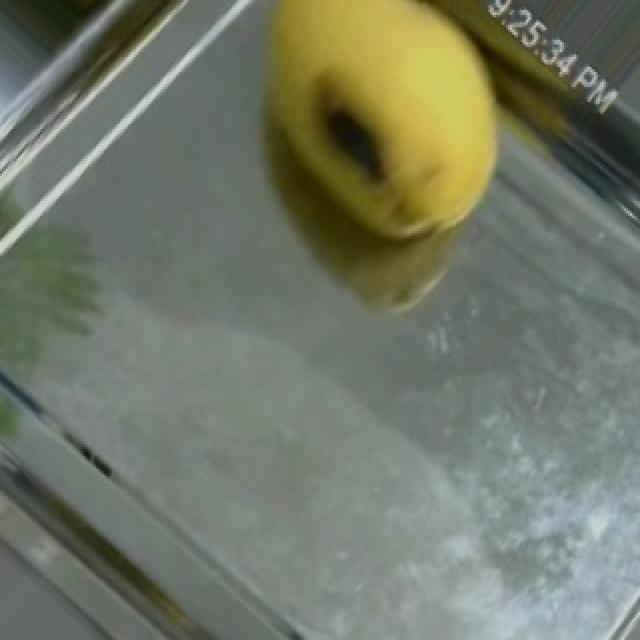fruit: (224, 0, 594, 290)
